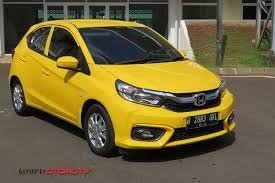mobil: (9, 16, 251, 161)
